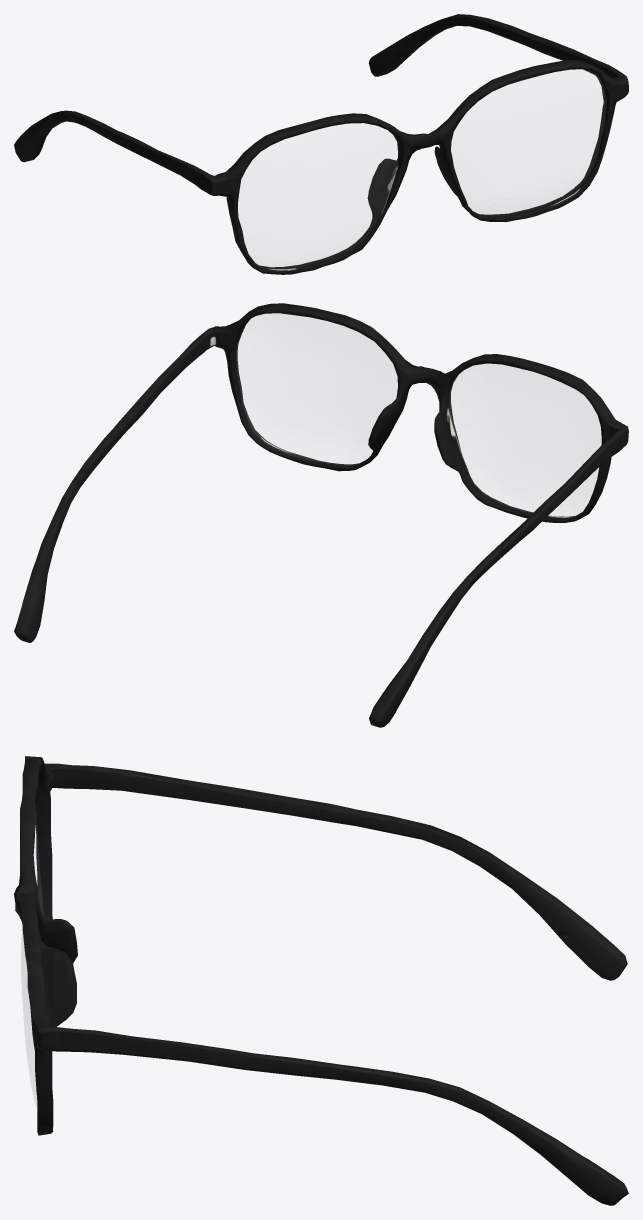
The model's file is frame-007-black-square.glb.
3 renders of one model, top to bottom at view 1: azimuth 30°, elevation 25°; view 2: azimuth 150°, elevation 25°; view 3: azimuth 270°, elevation 25°, orthographic. The views are drawn at different scales.
Parts seen in each view (by area): view 1: lenses, frame_front, temple_right, temple_left; view 2: lenses, frame_front, temple_left, temple_right; view 3: temple_left, frame_front, temple_right, lenses.
Boxes of the visible parts, x1,y1,x2,y2 form: lenses: (238,70,605,268); frame_front: (203,60,628,274); temple_right: (368,14,622,77); temple_left: (14,110,210,192); lenses: (236,314,600,517); frame_front: (206,303,628,522); temple_left: (369,431,625,727); temple_right: (14,331,211,642); temple_left: (54,763,627,980); frame_front: (14,756,77,1135); temple_right: (53,1027,628,1205); lenses: (21,809,43,1110).
Size of the model in its own units: 1 by 0.4238 by 0.9746.
Materials: 2 (1 with a texture image).
